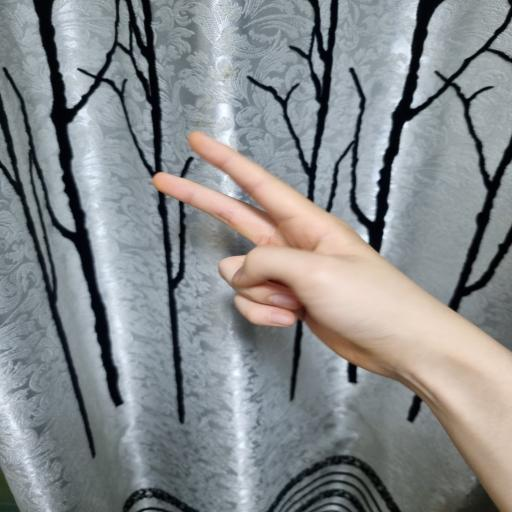Scissors: (152, 124, 444, 378)
